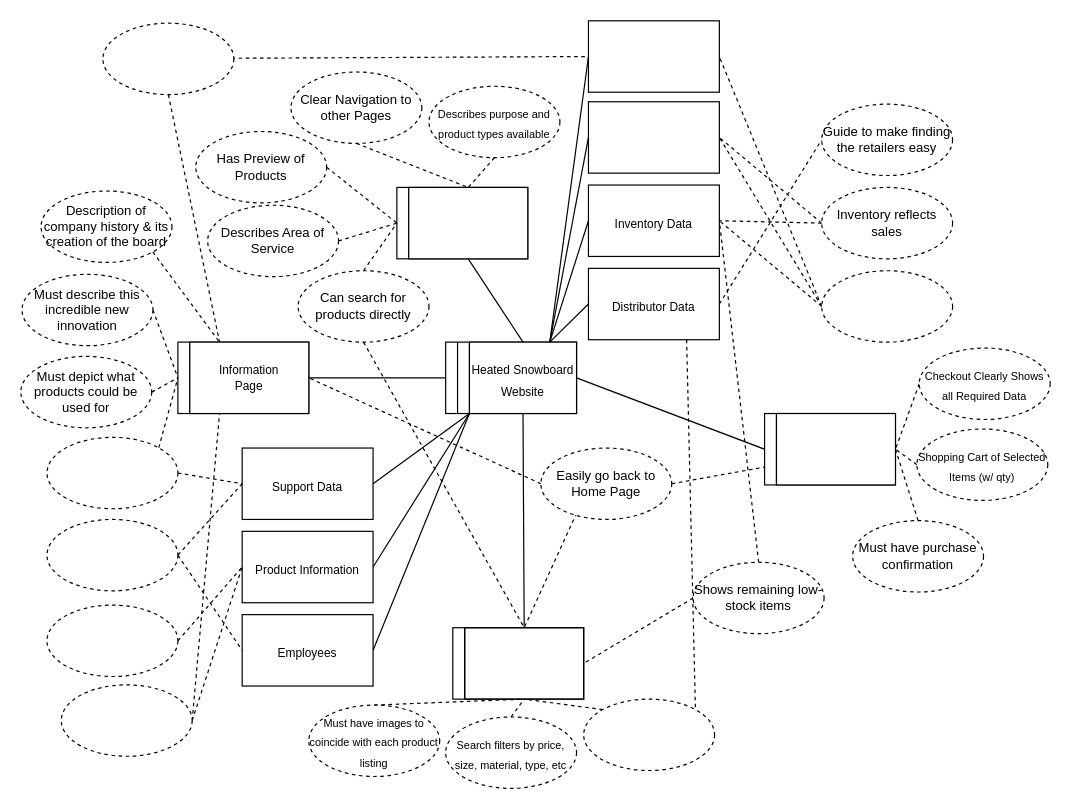
This 1071x809 diagram has some shape labels left out. The box of each missing label's shape, as (x1, y1, x2, y2) in pixels:
Employee Contact Information: (46, 518, 178, 591)
Have User Videos Available for Demonstration: (102, 22, 234, 95)
Home Page: (408, 186, 528, 259)
Must be up-to-date: (821, 270, 953, 342)
Must have searchable FAQs: (46, 436, 178, 509)
Must show what retailers each product can be purchased from: (583, 698, 715, 771)
Payment System to Purchase Boards: (775, 412, 895, 485)
Pictures of Product: (60, 684, 192, 756)
Pricing Data: (587, 101, 719, 173)
Product Dimensions: (46, 604, 178, 677)
Product Listing Page: (464, 627, 584, 699)
Product Review Data: (587, 20, 719, 92)
